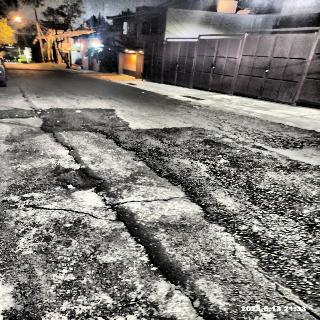alligator-crack: (224, 115, 318, 158)
crack: (226, 239, 320, 313)
pothole: (110, 210, 214, 320), (52, 133, 110, 203), (17, 203, 128, 223), (105, 195, 199, 208)
